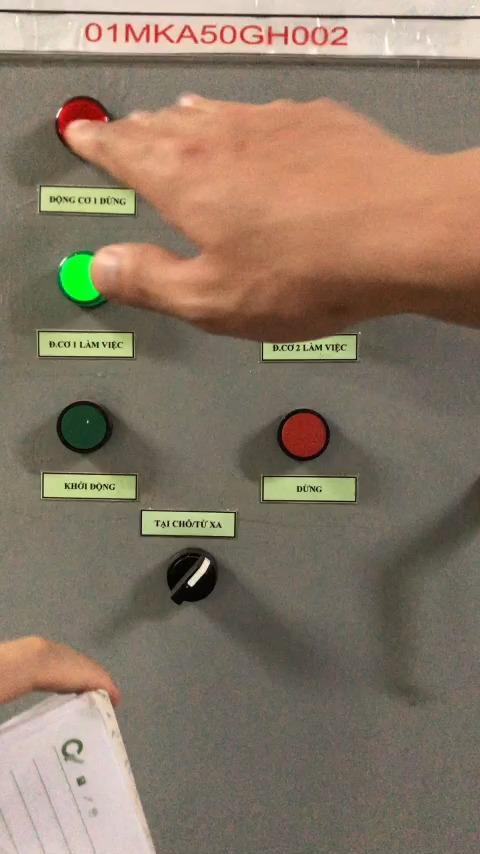led: (52, 91, 115, 153), (57, 400, 118, 458), (277, 403, 333, 466), (55, 248, 110, 306)
twist: (162, 545, 221, 612)
